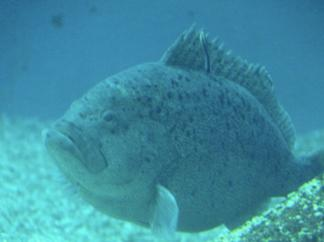Serranidae -Groupers-: (40, 22, 324, 241)
